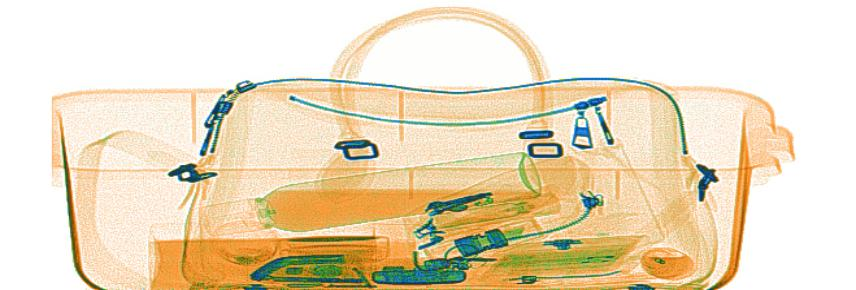plasticBottleWithaNozzle: (637, 246, 697, 281)
pressure: (194, 150, 542, 237)
